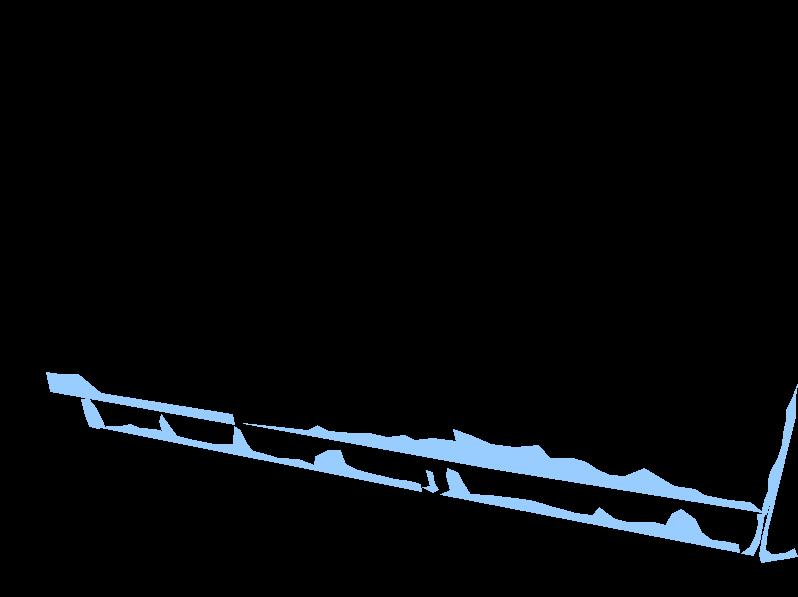Corrosion: (243, 423, 762, 512), (440, 468, 739, 552), (100, 414, 421, 491), (46, 372, 234, 424), (759, 397, 797, 562), (762, 384, 797, 514), (741, 514, 764, 555), (81, 398, 104, 428), (422, 470, 438, 492)
